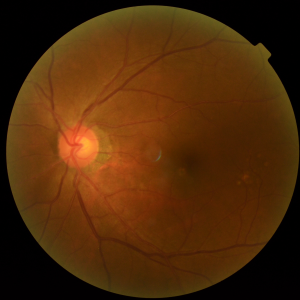retina_disease: (35, 103, 240, 213)
